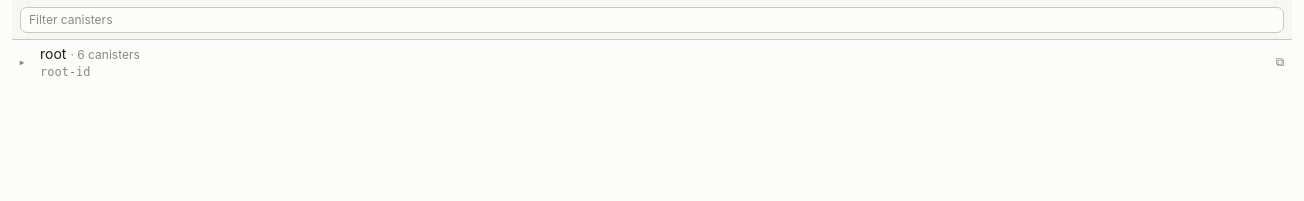
Test: a principal is searchable
In the search field labelled "Filter canisters": (652, 20) [20, 7, 1284, 33], type "ushard"
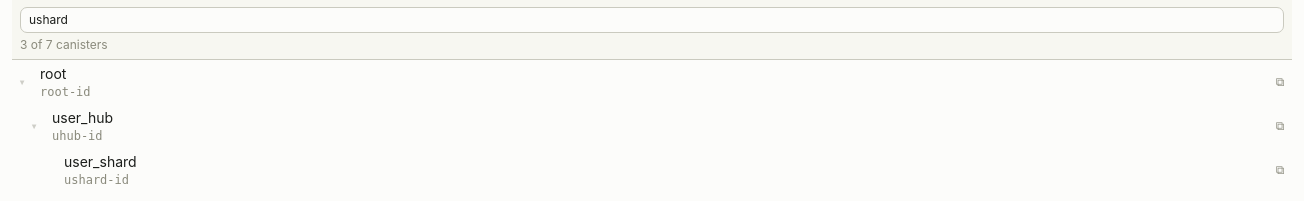
Expected: the text "user_shard" is shown, [64, 153, 137, 170]
